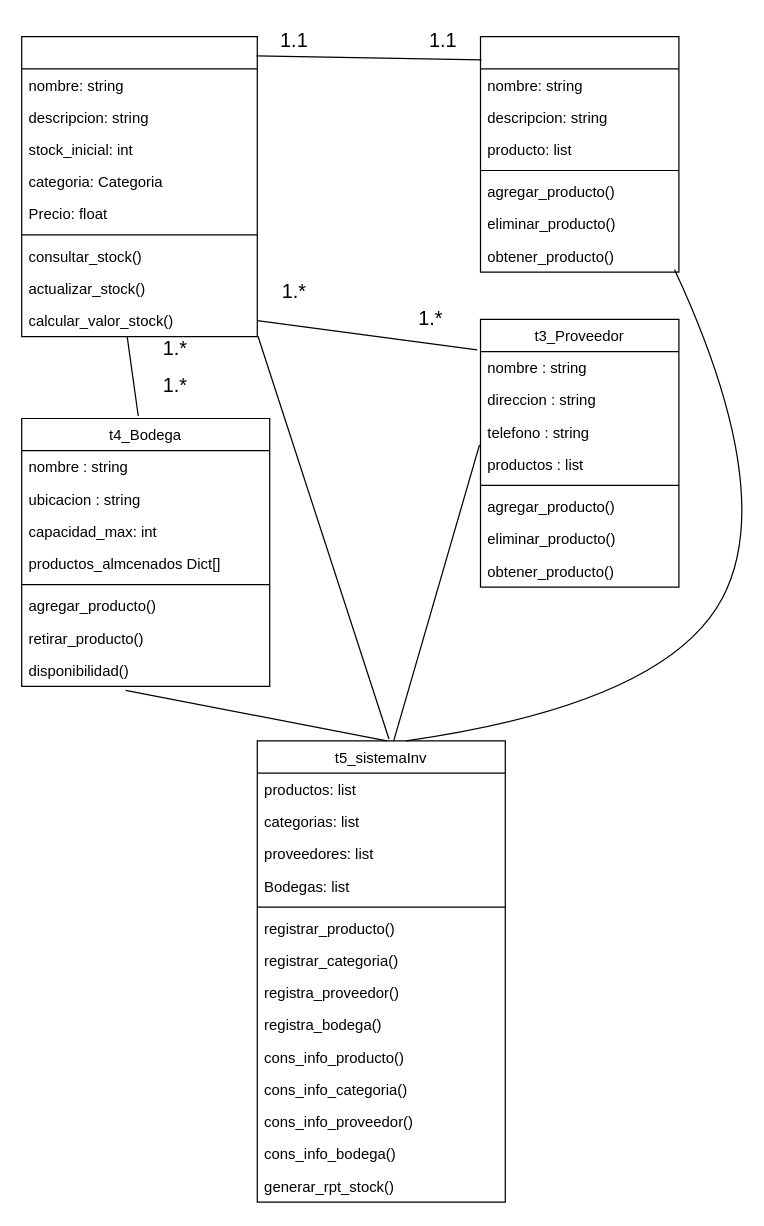
Image size: 764x1226. Some labels were removed from this diagram. The shapes that lost their labels are listed below. From the top down, each one's box as (x1, y1, x2, y2) in pixels, then its label:
(479, 35, 679, 272): t2_Categoría
(20, 35, 257, 337): t1_Producto
